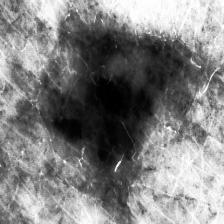Benign Marking or Mole: (52, 28, 180, 161)
